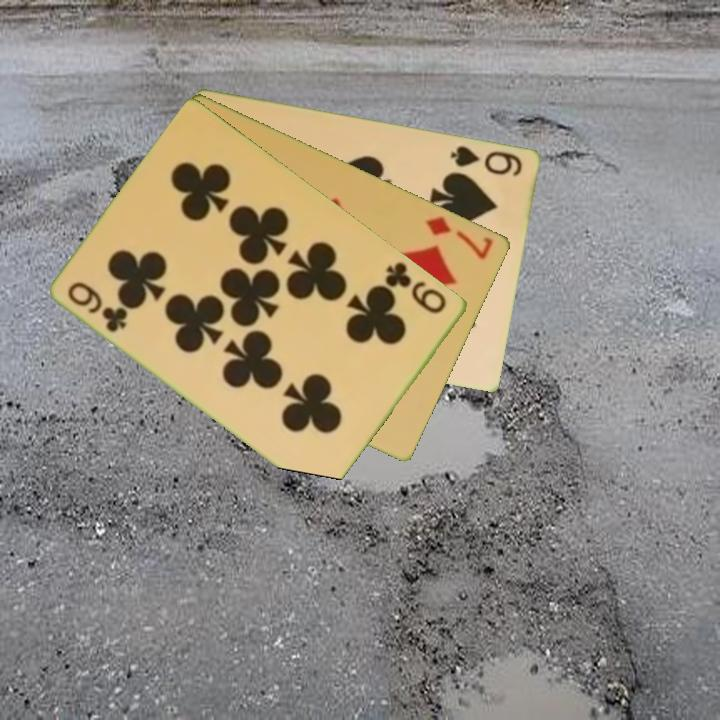6s: (447, 142, 526, 180)
7d: (423, 212, 497, 262)
9c: (382, 258, 450, 317), (64, 278, 131, 335)
